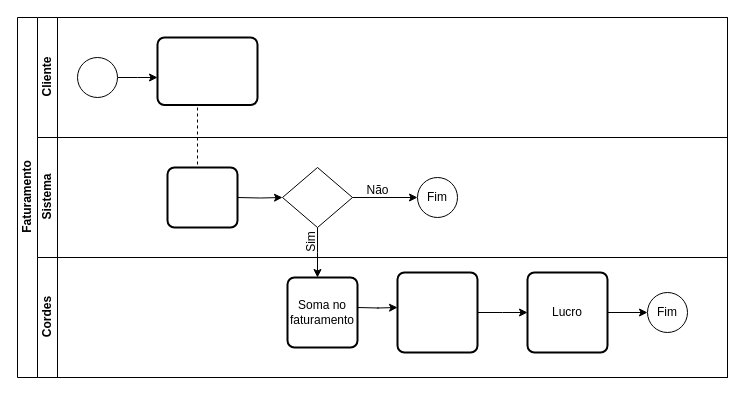
The diagram is 745 pixels wide and 395 high, and some of its shapes have lost their labels. The shapes that lost their labels are listed below. From the top down, each one's centre as x and y in pixels, then its label:
the point at 207,71: Realiza a compra das licenças e/ou implementação de serviços
the point at 202,197: Processa o pagamento
the point at 317,197: Aprovado?
the point at 437,312: Subtrai custos de operação, manutenção, etc...
